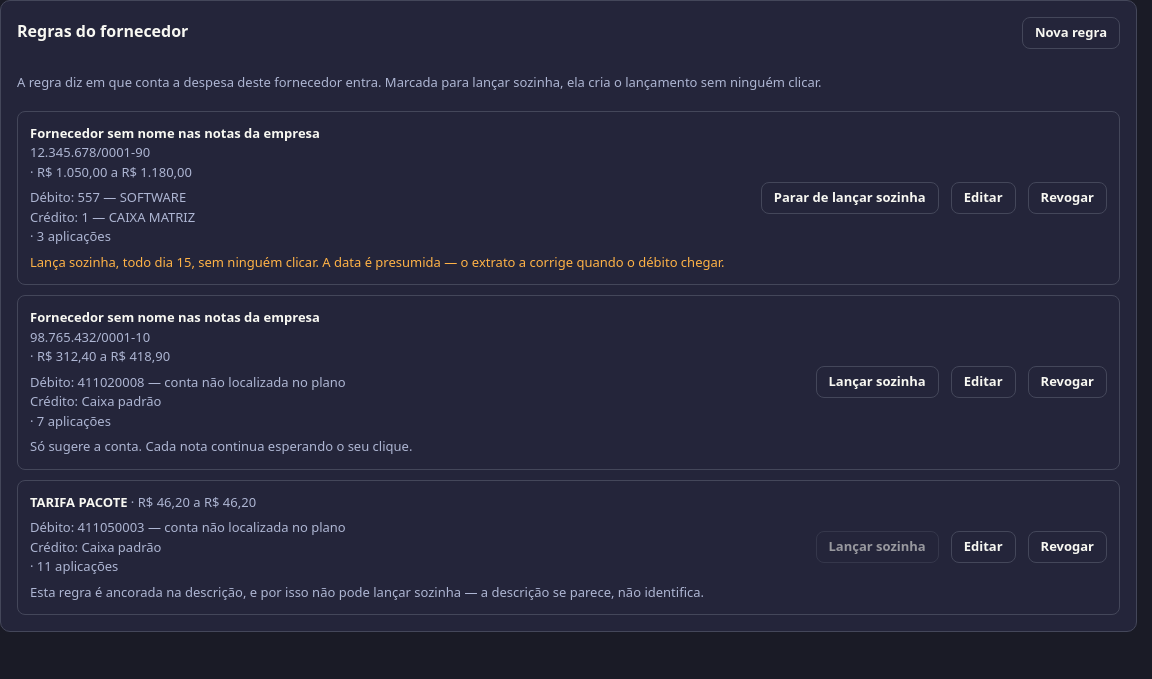
⚠⚠ o formulário da regra › ⚠⚠ o botão nasce DESABILITADO e DIZ o que falta
The width and height of the screenshot is (1152, 679).
Click the button "Nova regra" at (1071, 33), box [1022, 17, 1120, 49]
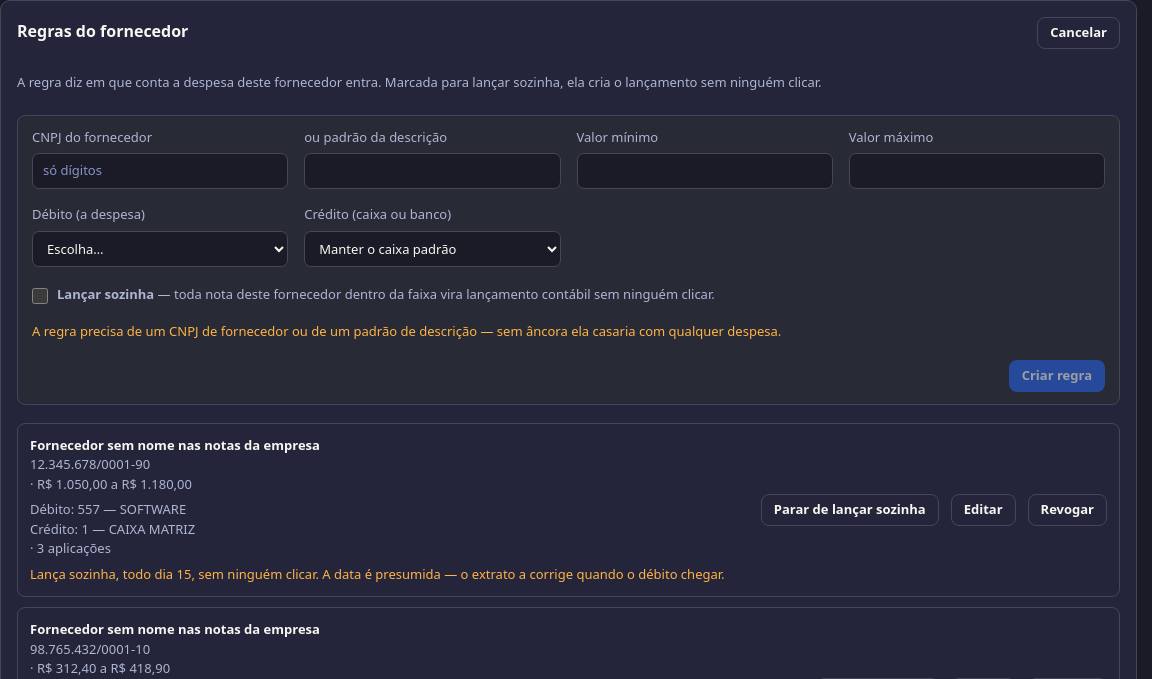
Result: the button "Criar regra" is disabled at [1009, 360, 1105, 392]
Result: the text "âncora" is shown at [32, 322, 781, 340]
